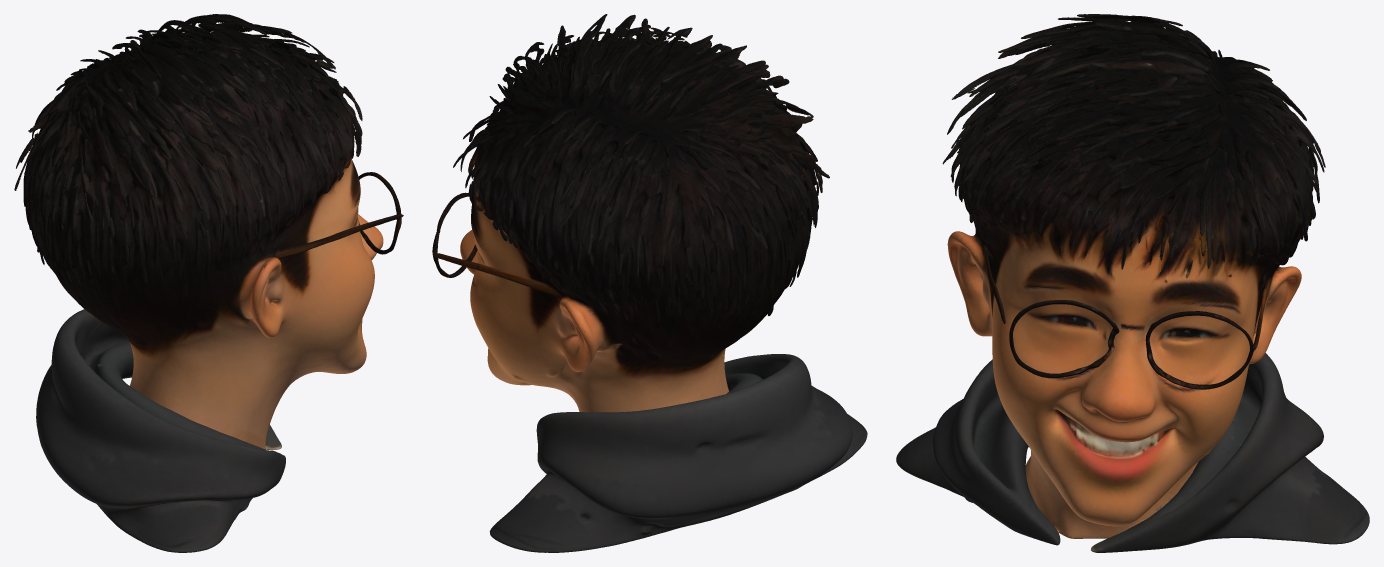
The model's file is roger2.optimized.glb.
3 renders of one model, left to right at view 1: azimuth 30°, elevation 25°; view 2: azimuth 150°, elevation 25°; view 3: azimuth 270°, elevation 25°, orthographic. The views are drawn at different scales.
Visible parts, largest first — view 1: tripo_node_f906d222-6554-4a39-b4c6-c1c9afbef957; view 2: tripo_node_f906d222-6554-4a39-b4c6-c1c9afbef957; view 3: tripo_node_f906d222-6554-4a39-b4c6-c1c9afbef957.
Boxes of the visible parts, <box> form: tripo_node_f906d222-6554-4a39-b4c6-c1c9afbef957: <box>14,14,403,552</box>; tripo_node_f906d222-6554-4a39-b4c6-c1c9afbef957: <box>432,14,867,552</box>; tripo_node_f906d222-6554-4a39-b4c6-c1c9afbef957: <box>896,14,1369,552</box>.
Size of the model in its own units: 0.8187 by 0.9999 by 0.8842.
1 material, 1 textured.
